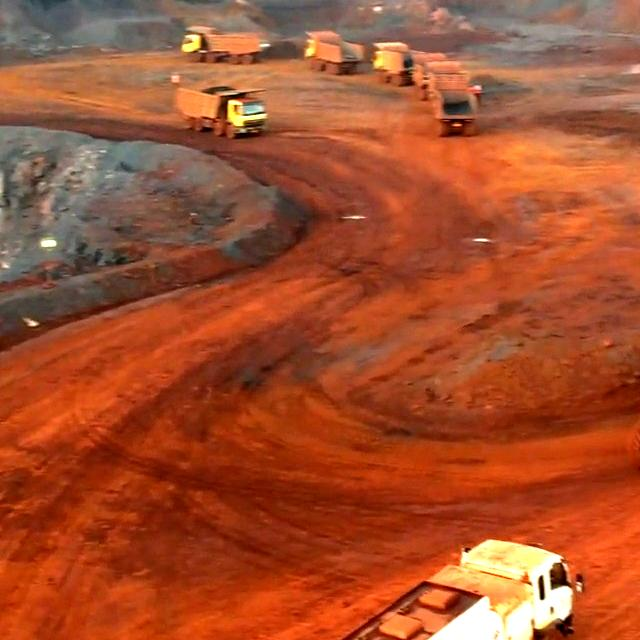Dumper truck: (179, 88, 265, 133), (304, 30, 364, 76), (184, 34, 260, 63), (439, 90, 476, 137), (375, 43, 414, 85)
